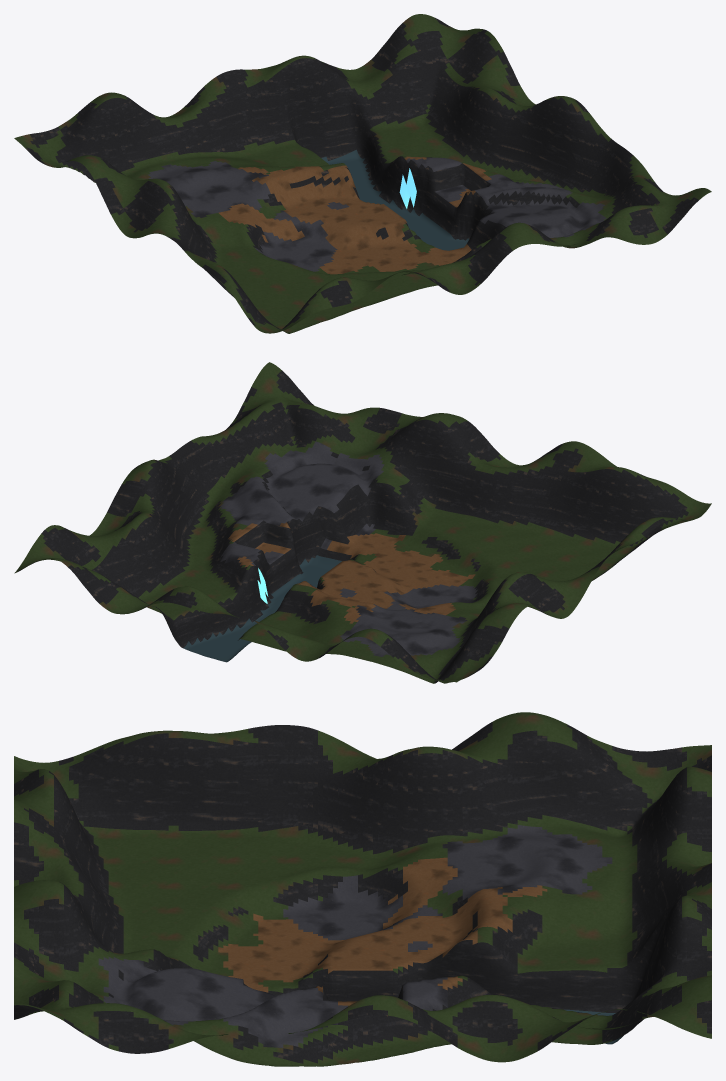
Rendered from aether_crown_terrain_foundation.glb.
3 views of the same model, one above another, from view 1: azimuth 30°, elevation 25°; view 2: azimuth 150°, elevation 25°; view 3: azimuth 270°, elevation 25° (orthographic). The views are drawn at different scales.
Parts seen in each view (by area): view 1: AetherCrown_Terrain_Foundation; view 2: AetherCrown_Terrain_Foundation; view 3: AetherCrown_Terrain_Foundation.
Part boxes in pixels (<box>): AetherCrown_Terrain_Foundation: <box>14,14,711,333</box>; AetherCrown_Terrain_Foundation: <box>14,362,711,683</box>; AetherCrown_Terrain_Foundation: <box>14,712,711,1066</box>.
Size of the model in its own units: 140 by 28.58 by 140.
Materials: 6 (4 with a texture image).
